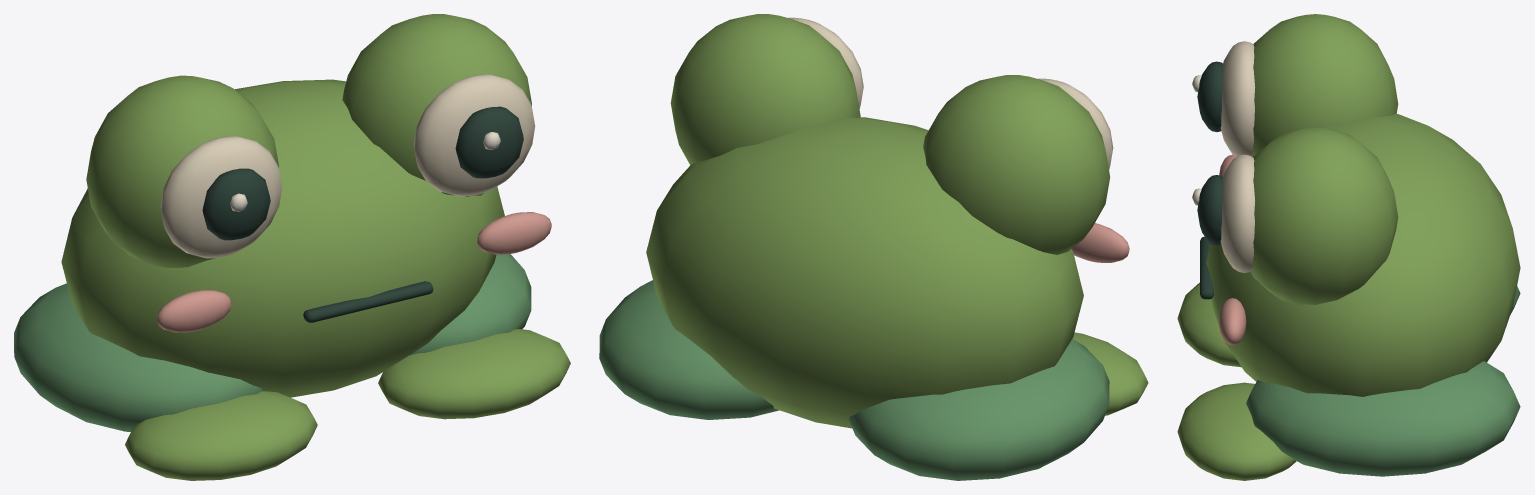
Rendered from frog.glb.
The picture shows the model from 3 angles, left to right: view 1: azimuth 30°, elevation 25°; view 2: azimuth 150°, elevation 25°; view 3: azimuth 270°, elevation 25°; orthographic projection. The views are drawn at different scales.
Parts seen in each view (by area): view 1: body; view 2: body; view 3: body.
Part boxes in pixels (x1,y1,x2,y2): body: [14, 14, 570, 480]; body: [599, 14, 1148, 480]; body: [1177, 14, 1520, 480].
Bounding box in the file's own units: 1.28 × 0.91 × 0.87.
